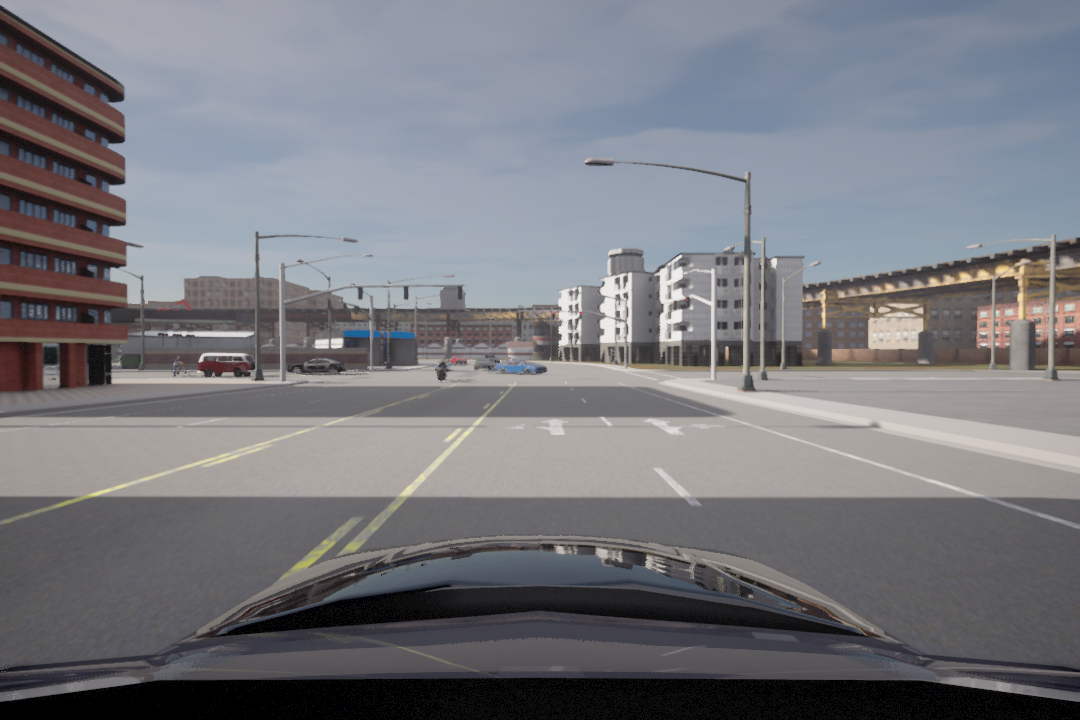RoadSign_forward_left: (500, 417, 575, 441)
RoadSign_forward_right: (639, 415, 728, 441)
